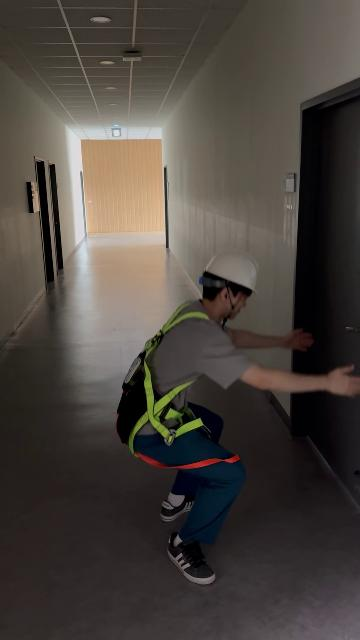helmet_worn: (202, 251, 260, 292)
shoe_not_worn: (167, 534, 215, 586), (160, 491, 195, 522)
vest_worn: (114, 303, 210, 455)
